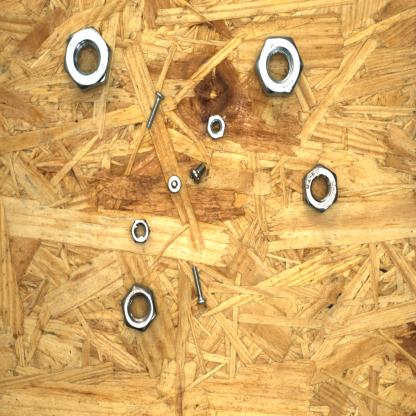screw: (186, 263, 210, 309), (144, 85, 166, 134), (188, 160, 210, 186)
